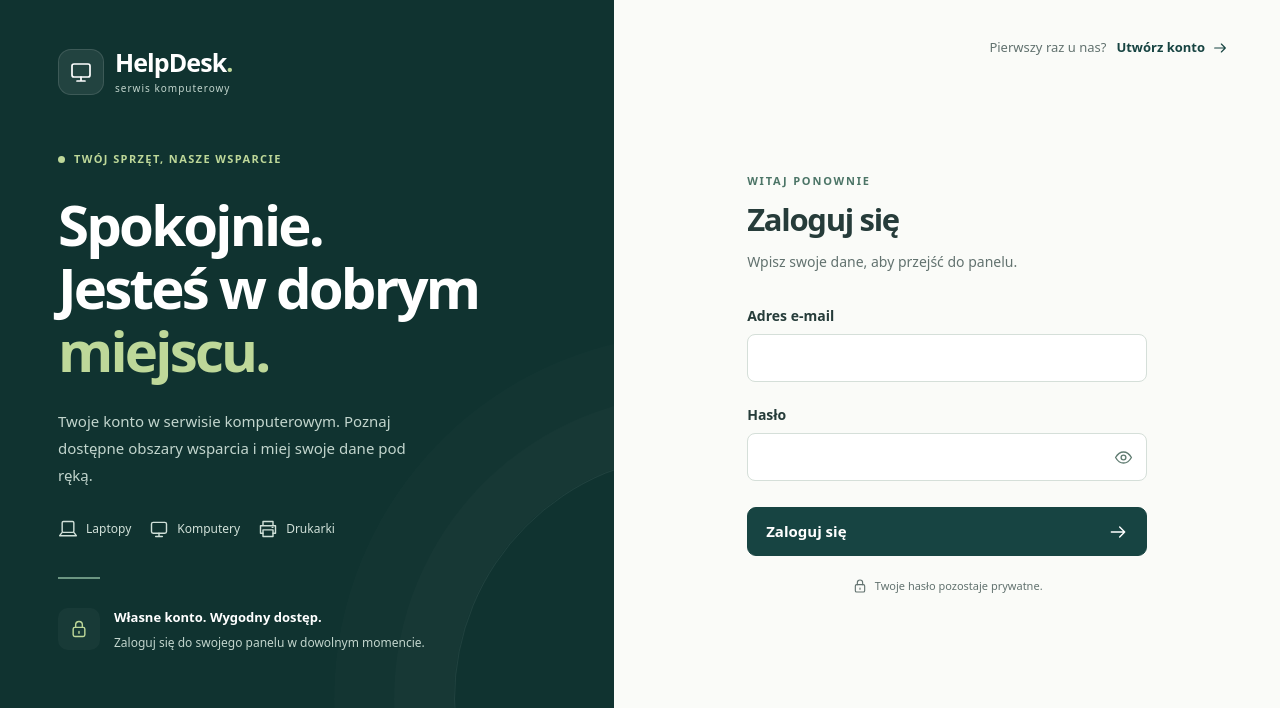
Niepoprawne pola blokują wysłanie i kierują fokus do pierwszego błędu
Expected: the heading "Zaloguj się" is shown, [747,198,899,240]
Step 1. Click the button "Zaloguj się" → (806, 531), box [747,507,1147,556]
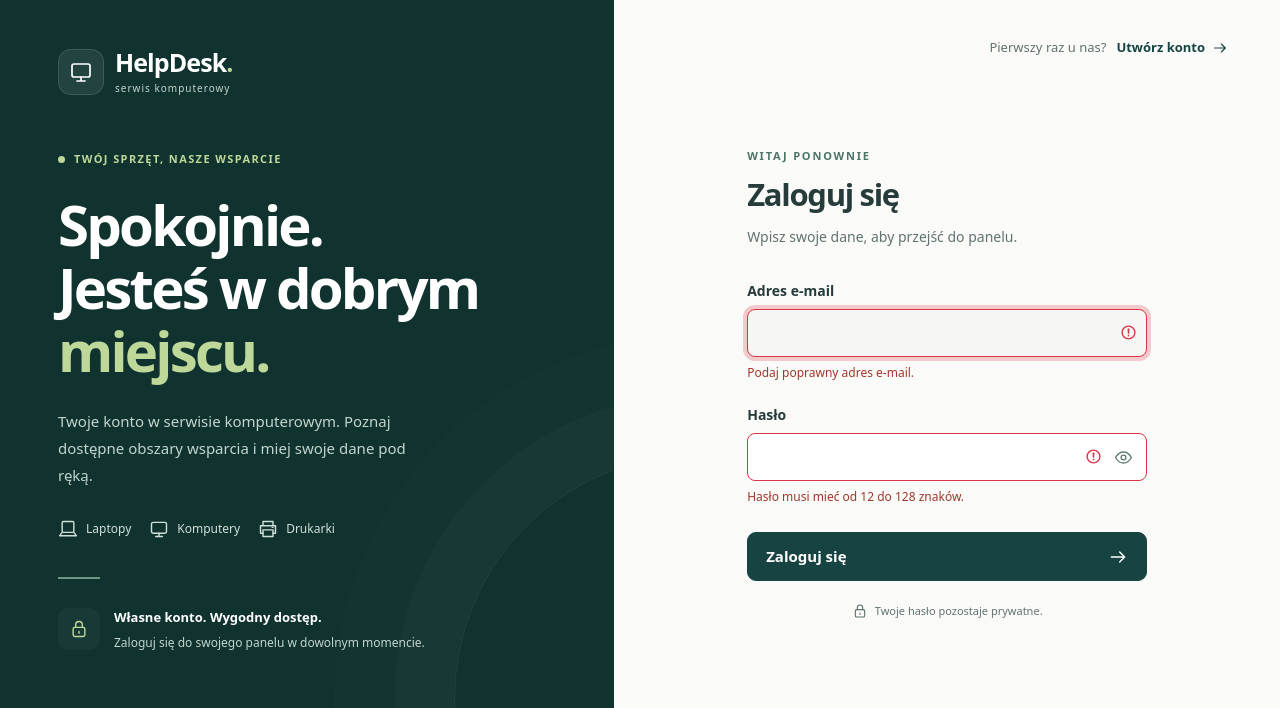
Now the text "Podaj poprawny adres e-mail." is shown, box [747,364,914,381]
